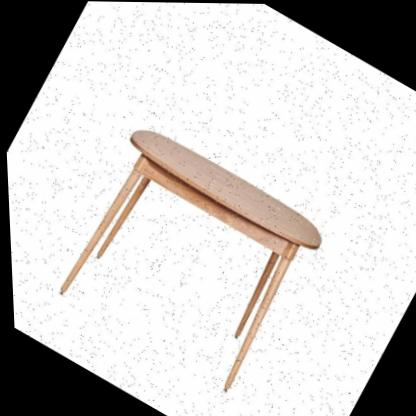Table: (9, 79, 387, 416)
